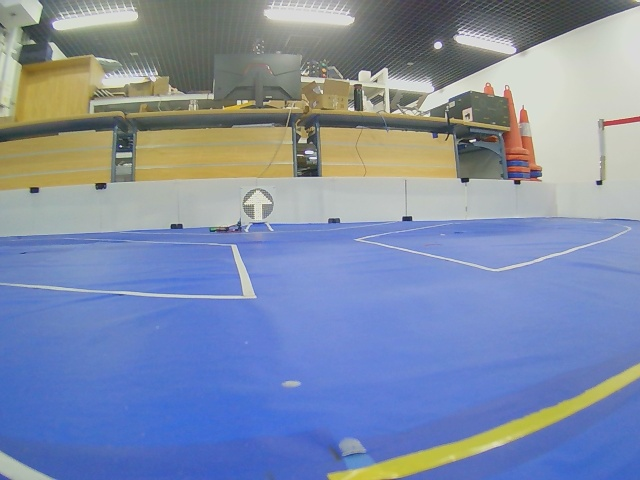straight_yellow: (242, 188, 273, 221)
